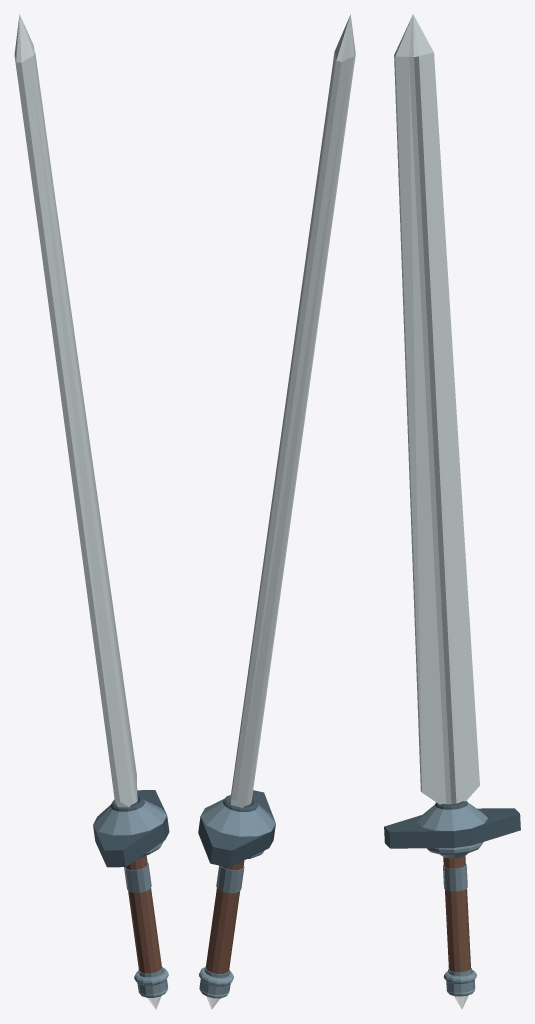
The model's file is long_sword.glb.
3 renders of one model, left to right at view 1: azimuth 30°, elevation 25°; view 2: azimuth 210°, elevation 25°; view 3: azimuth 330°, elevation 25°, orthographic. The views are drawn at different scales.
Bounding box in the file's own units: 0.3172 × 2.18 × 0.2839.
